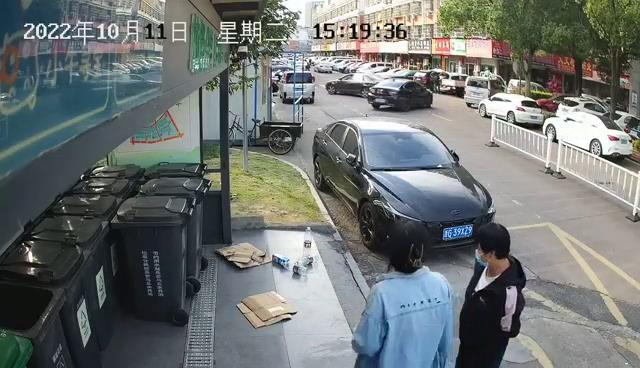person: (454, 219, 527, 368)
suliaozhipin: (292, 226, 318, 276)
worker: (348, 219, 457, 368)
zhizhipin: (235, 288, 298, 329), (214, 241, 273, 269), (272, 252, 291, 269)
